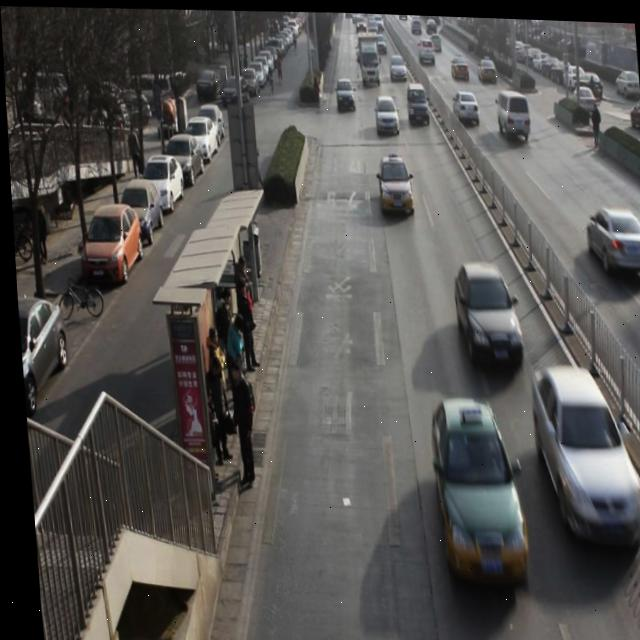bus: (356, 30, 381, 80)
car: (524, 365, 640, 549), (422, 395, 528, 588), (443, 258, 524, 368), (583, 200, 640, 275), (374, 147, 411, 210), (405, 78, 431, 123), (372, 90, 399, 129), (450, 84, 478, 120), (335, 73, 356, 108), (476, 52, 497, 78), (417, 34, 436, 61), (387, 50, 406, 76), (450, 47, 467, 75)
truck: (493, 85, 530, 140)
